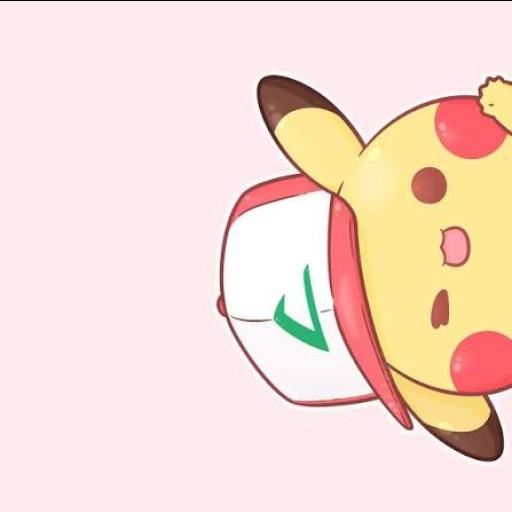Pikachu: (218, 74, 512, 462)
